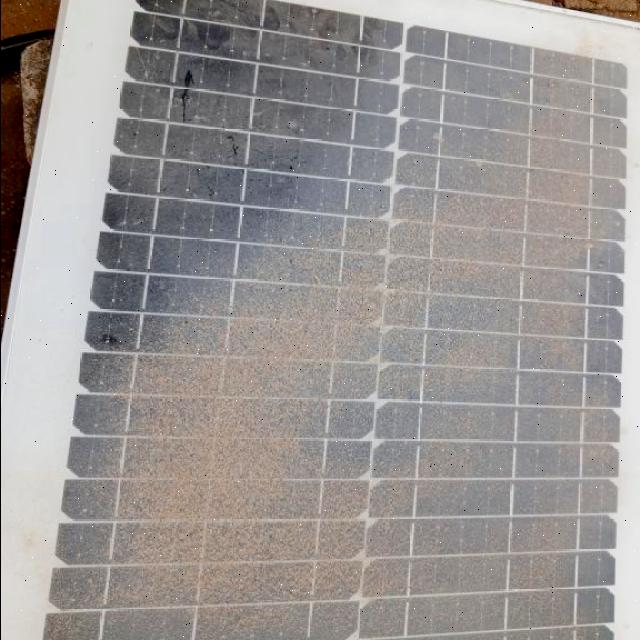Surface Contaminant: (111, 36, 626, 640)
